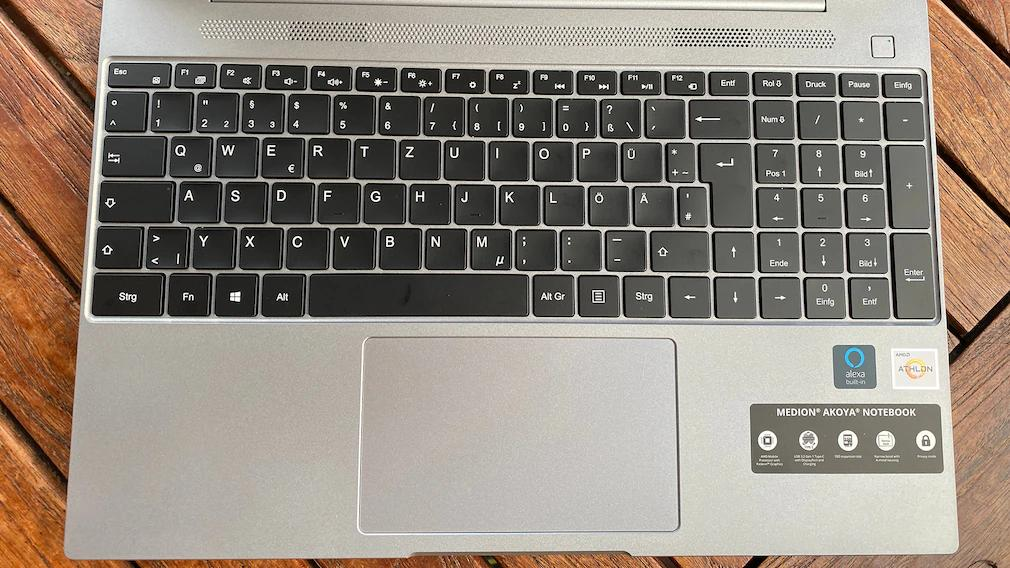0: (553, 94, 594, 136)
1: (149, 88, 190, 131)
2: (193, 89, 237, 131)
3: (238, 89, 283, 132)
4: (285, 89, 327, 132)
5: (330, 91, 372, 133)
6: (376, 92, 418, 134)
7: (421, 93, 462, 135)
8: (465, 94, 506, 135)
9: (509, 94, 550, 136)
a: (174, 177, 217, 221)
accent: (641, 95, 682, 136)
ae: (629, 182, 671, 224)
alt-left: (258, 270, 303, 316)
altgr-right: (529, 270, 573, 315)
b: (374, 223, 418, 267)
c: (282, 223, 327, 268)
caret: (102, 88, 144, 130)
comma: (512, 225, 554, 269)
d: (267, 178, 310, 222)
del: (685, 95, 748, 137)
e: (258, 133, 301, 176)
enter: (697, 138, 750, 225)
f: (314, 178, 356, 221)
g: (360, 179, 402, 222)
h: (406, 180, 448, 222)
hash: (675, 182, 705, 225)
i: (486, 137, 526, 178)
j: (451, 180, 492, 223)
k: (496, 180, 536, 223)
keyboard: (83, 52, 940, 326)
l: (541, 181, 581, 223)
less: (142, 222, 187, 268)
m: (466, 225, 508, 268)
minus: (601, 226, 643, 269)
n: (421, 224, 463, 268)
o: (529, 137, 571, 180)
oe: (584, 182, 625, 224)
p: (574, 138, 615, 180)
plus: (663, 138, 692, 180)
point: (556, 225, 598, 268)
q: (165, 132, 209, 176)
r: (304, 134, 347, 177)
s: (220, 177, 263, 221)
shift-left: (91, 222, 139, 267)
shift-lock: (95, 177, 171, 221)
shift-right: (647, 226, 707, 270)
space: (306, 269, 527, 316)
ss: (597, 95, 637, 136)
strg-left: (86, 269, 163, 316)
strg-right: (620, 272, 664, 316)
t: (351, 134, 392, 177)
tab: (99, 131, 162, 175)
u: (441, 136, 482, 179)
ue: (617, 138, 659, 180)
v: (330, 223, 372, 267)
w: (212, 131, 254, 176)
x: (236, 223, 279, 268)
y: (189, 223, 233, 268)
z: (397, 135, 438, 178)
